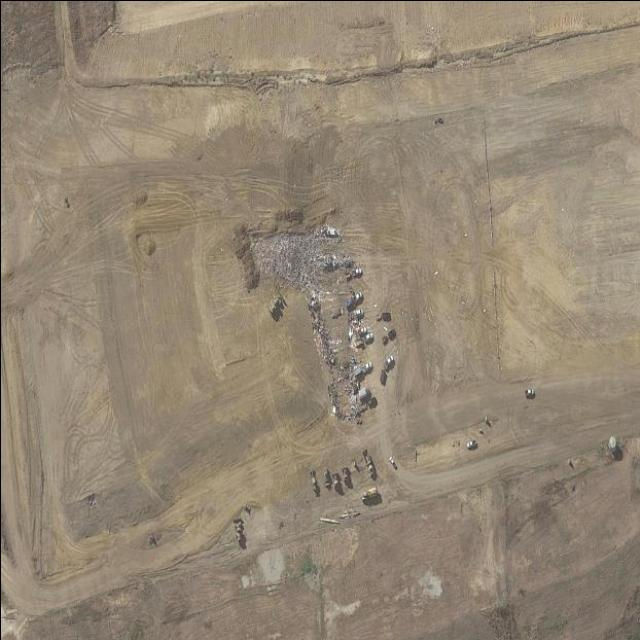dump_site: (301, 288, 378, 431), (248, 215, 362, 288)
